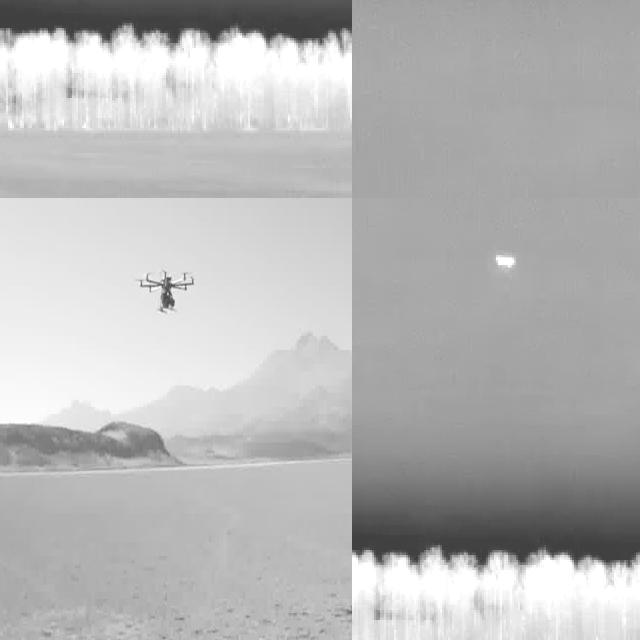1: (470, 244, 538, 286)
drone: (137, 264, 196, 317)
